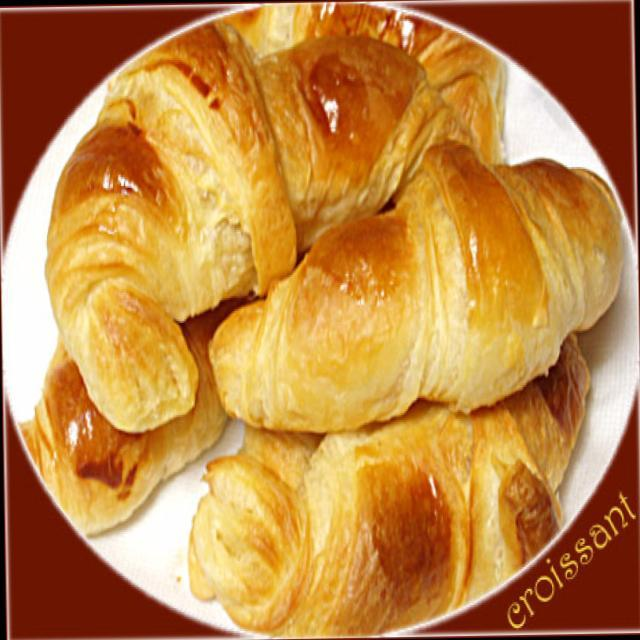Croissant: (41, 34, 484, 412)
